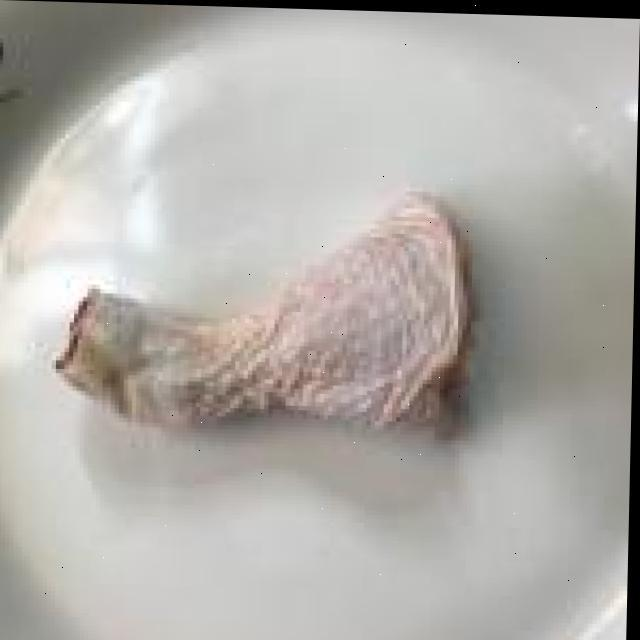leg: (41, 172, 487, 480)
